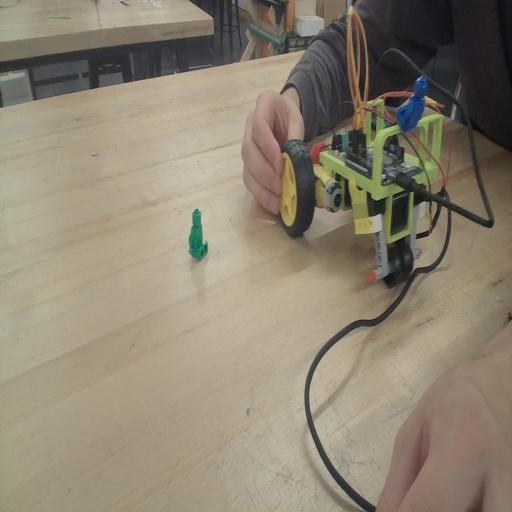blue LEGO minifig: (396, 76, 428, 133)
green LEGO minifig: (186, 205, 210, 264)
